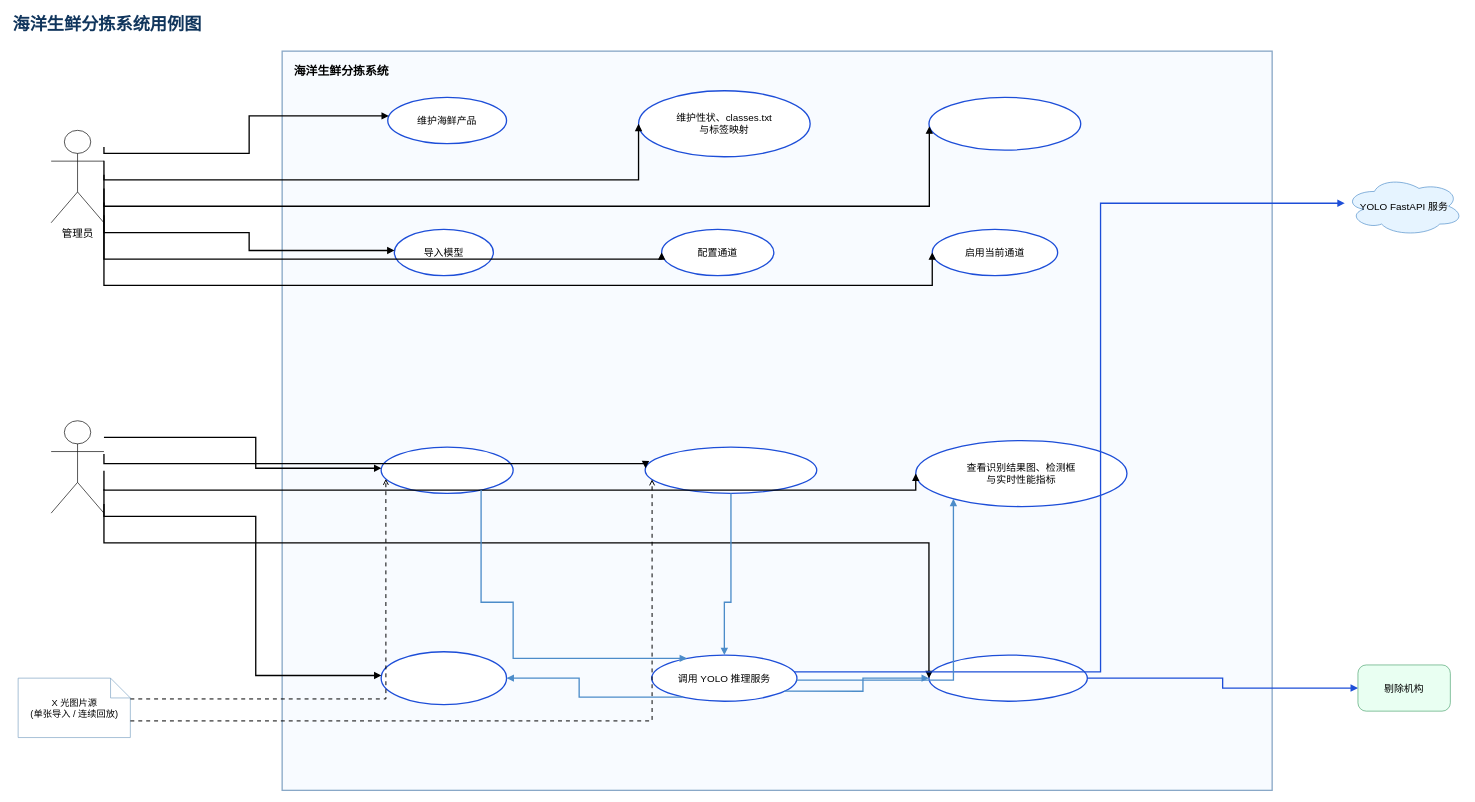
Image size: 1475x802. Some labels were removed from this diagram. The centre of each missing label's shape, as x and y in pixels:
"单张 X 光图联调" belongs at point 446,470.
"操作员" belongs at point 77,466.
"查看海鲜总数 与性状统计" belongs at point 443,678.
"生成剔除命令预览" belongs at point 1008,678.
"维护产品级 YOLO 配置 JSON" belongs at point 1004,123.
"连续图像回放联调" belongs at point 730,470.
